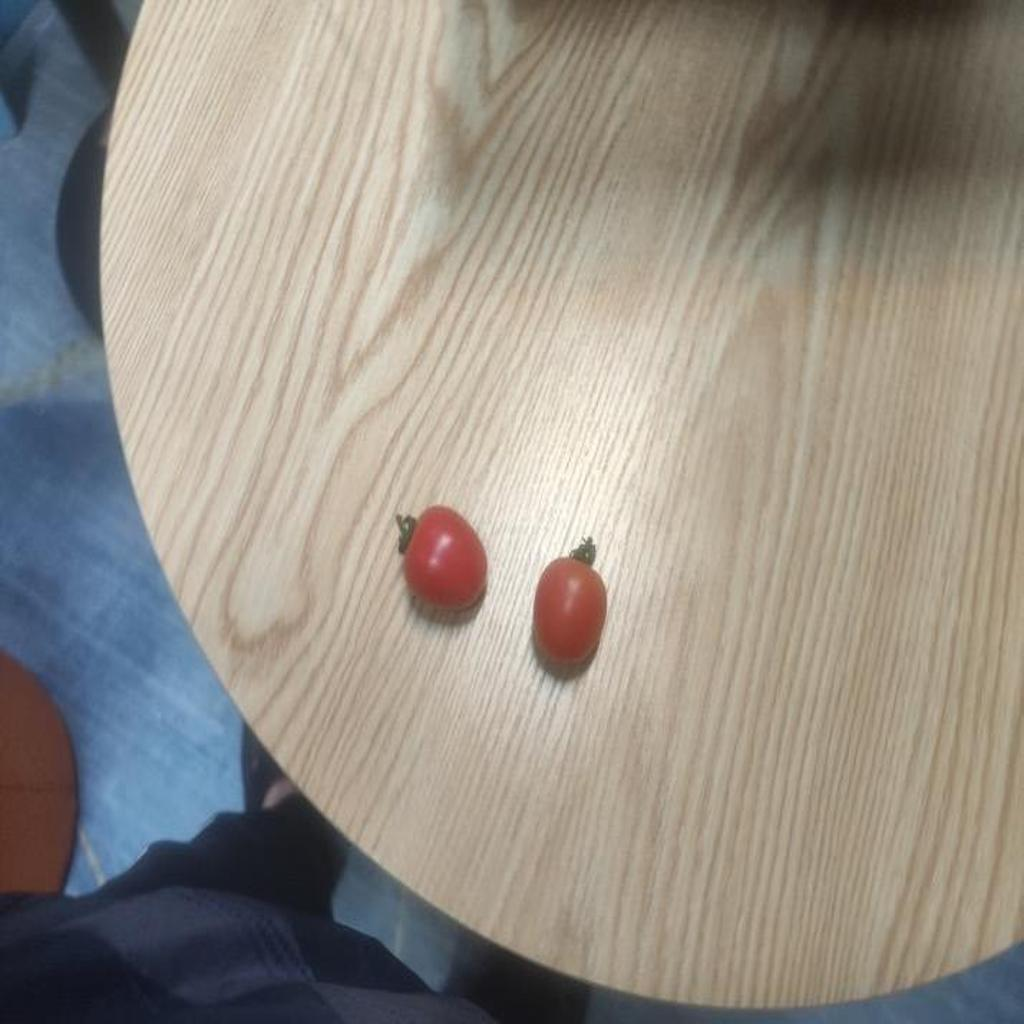tomato: (394, 503, 490, 623), (526, 547, 615, 673)
